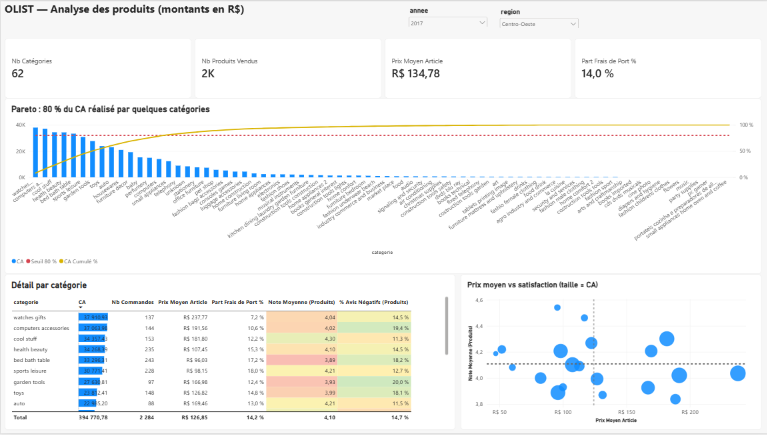

Layout of this report page (visuals, bound fields, positions):
{"tool":"powerbi","page":{"name":"Produits","canvas":[1920,1080],"ordinal":1},"visuals":[{"type":"textbox","box":[10,0,1018,48],"z":0},{"type":"slicer","fields":{"Values":["dim_date.annee"]},"box":[1015.8,13.2,207.3,50.9],"z":1000},{"type":"slicer","fields":{"Values":["dim_client.region"]},"box":[1242.1,15.8,207.3,50.9],"z":2000},{"type":"cardVisual","fields":{"Data":["_Mesures.Nb Catégories","_Mesures.Nb Produits Vendus","_Mesures.Prix Moyen Article","_Mesures.Part Frais de Port %"]},"box":[9.6,92.3,1892.3,150],"z":3000},{"type":"lineClusteredColumnComboChart","title":"Pareto : 80 % du CA réalisé par quelques catégories","fields":{"Category":["dim_produit.categorie"],"Y":["_Mesures.CA"],"Y2":["_Mesures.Seuil 80 %","_Mesures.CA Cumulé %"]},"box":[9.6,242.3,1892.3,438.5],"z":4000},{"type":"tableEx","title":"Détail par catégorie","fields":{"Values":["dim_produit.categorie","_Mesures.CA","_Mesures.Nb Commandes","_Mesures.Prix Moyen Article","_Mesures.Part Frais de Port %","_Mesures.Note Moyenne (Produits)","_Mesures.% Avis Négatifs (Produits)"]},"box":[9.6,682.7,1126.9,388.5],"z":5000},{"type":"scatterChart","title":"Prix moyen vs satisfaction (taille = CA)","fields":{"Category":["dim_produit.categorie"],"Size":["_Mesures.CA"],"X":["_Mesures.Prix Moyen Article"],"Y":["_Mesures.Note Moyenne (Produits)"]},"box":[1150,682.7,751.9,388.5],"z":6000}]}

Visuals, with their boxes in screenshot pixels (x1, y1, x2, y2), scaled from the page's 1920x1080 canvas onto the 767x435 screenshot:
textbox: select_region(4, 0, 411, 19)
slicer - dim_date.annee: select_region(406, 5, 489, 26)
slicer - dim_client.region: select_region(496, 6, 579, 27)
cardVisual - _Mesures.Nb Catégories x _Mesures.Nb Produits Vendus: select_region(4, 37, 760, 98)
"Pareto : 80 % du CA réalisé par quelques catégories" lineClusteredColumnComboChart: select_region(4, 98, 760, 274)
"Détail par catégorie" tableEx: select_region(4, 275, 454, 431)
"Prix moyen vs satisfaction (taille = CA)" scatterChart: select_region(459, 275, 760, 431)
